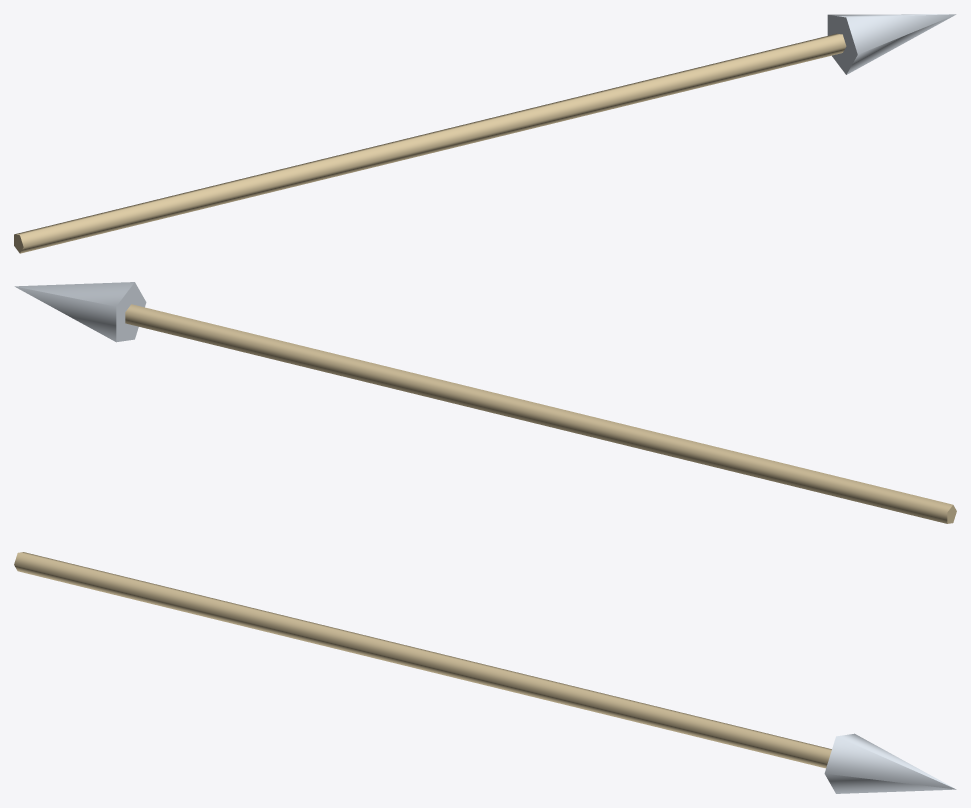
The model's file is bow_arrow.glb.
The picture shows the model from 3 angles, top to bottom: view 1: azimuth 30°, elevation 25°; view 2: azimuth 150°, elevation 25°; view 3: azimuth 330°, elevation 25°; orthographic projection.
Parts seen in each view (by area): view 1: m0_ow80_, m1_ow80_; view 2: m0_ow80_, m1_ow80_; view 3: m0_ow80_, m1_ow80_.
Part boxes in pixels (x1,y1,x2,y2): m0_ow80_: (14, 33, 846, 253); m1_ow80_: (827, 14, 956, 74); m0_ow80_: (125, 304, 956, 523); m1_ow80_: (14, 282, 146, 342); m0_ow80_: (14, 552, 831, 768); m1_ow80_: (824, 733, 956, 793).
Size of the model in its own units: 0.81 by 0.0476 by 0.0452.
